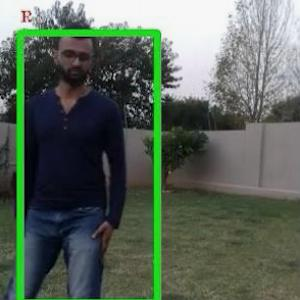follow: (25, 21, 122, 299)
